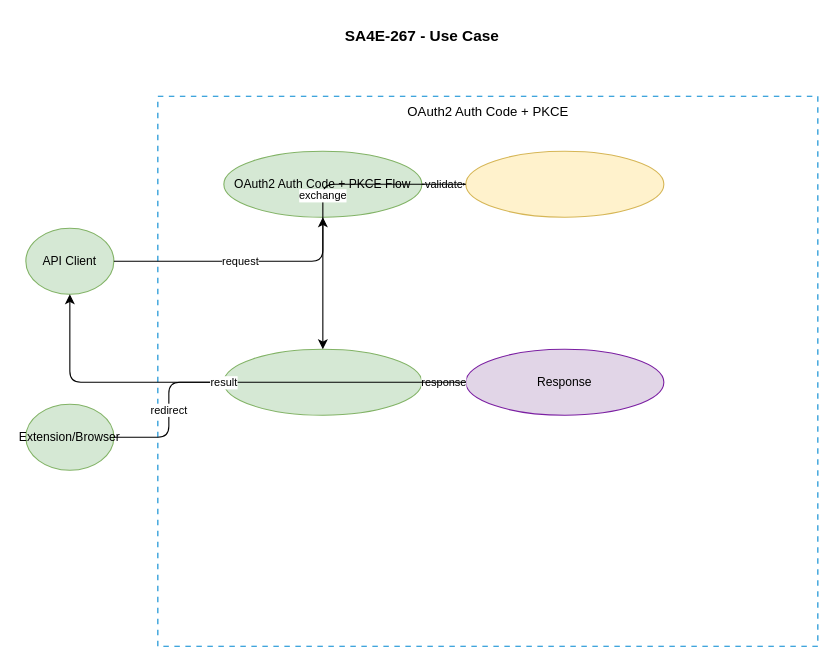
The diagram is 837 pixels wide and 666 high, and some of its shapes have lost their labels. Here are the shapes that lost their labels. From the top down, the box of each, then its label:
(465, 150, 664, 217): Validation / Auth
(223, 348, 422, 415): Token Exchange
